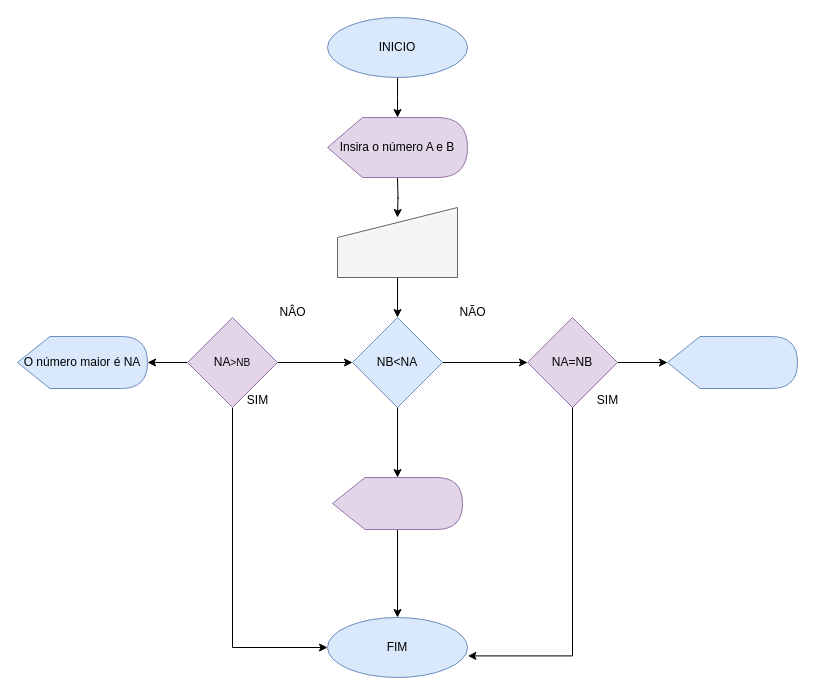
The diagram is 815 pixels wide and 695 high, and some of its shapes have lost their labels. Here are the shapes that lost their labels. From the top down, the centre of each, then its label:
(397,242): Compare eles:
(732,362): Os números são iguais
(397,503): O número maior é NB
